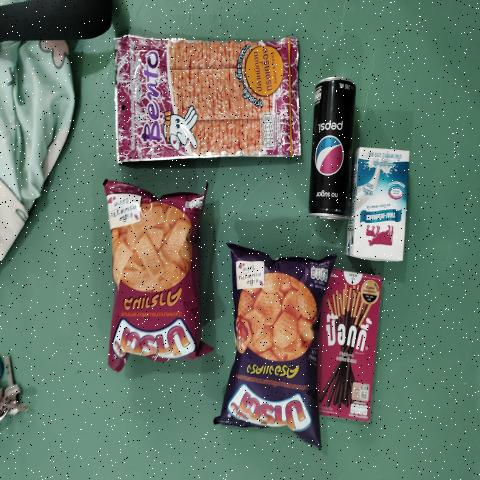bento_red: (126, 42, 288, 158)
party_purple: (236, 246, 316, 448)
party_red: (113, 192, 201, 354)
pepsi_black: (314, 79, 347, 212)
pokki: (330, 276, 370, 424)
thai_denmark: (356, 148, 403, 260)
